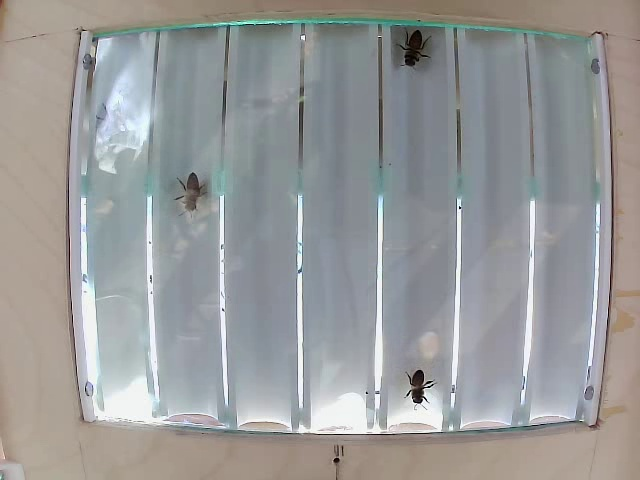bee: (396, 365, 430, 403), (401, 34, 425, 72), (178, 169, 197, 214)
